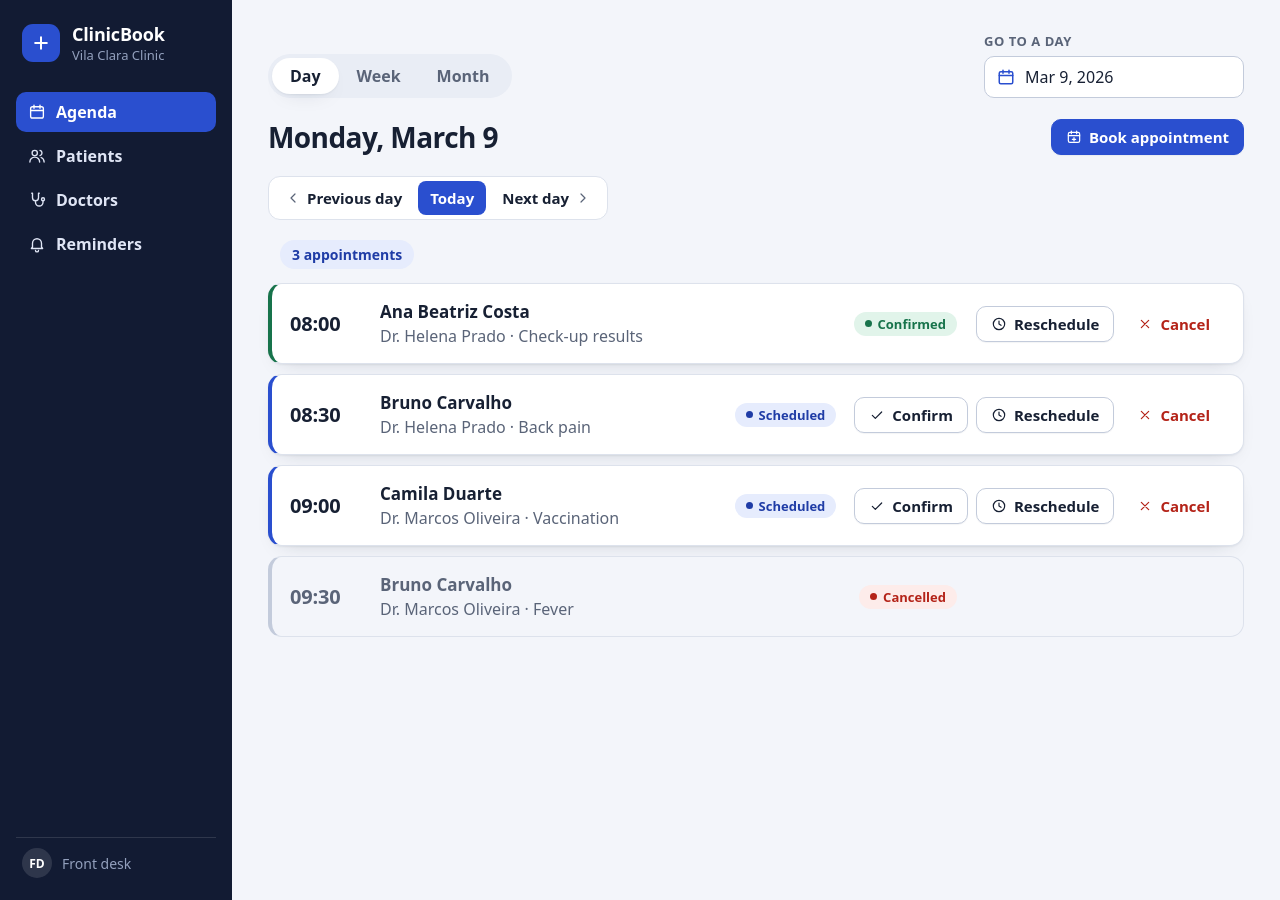
the agenda › confirms a scheduled appointment
Expected: the navigation bar named "Main" is shown, x1=16 y1=92 x2=216 y2=264
Click the button with aria-label "Confirm Bruno Carvalho at 08:30".
click(911, 414)  # box x1=854 y1=396 x2=968 y2=432
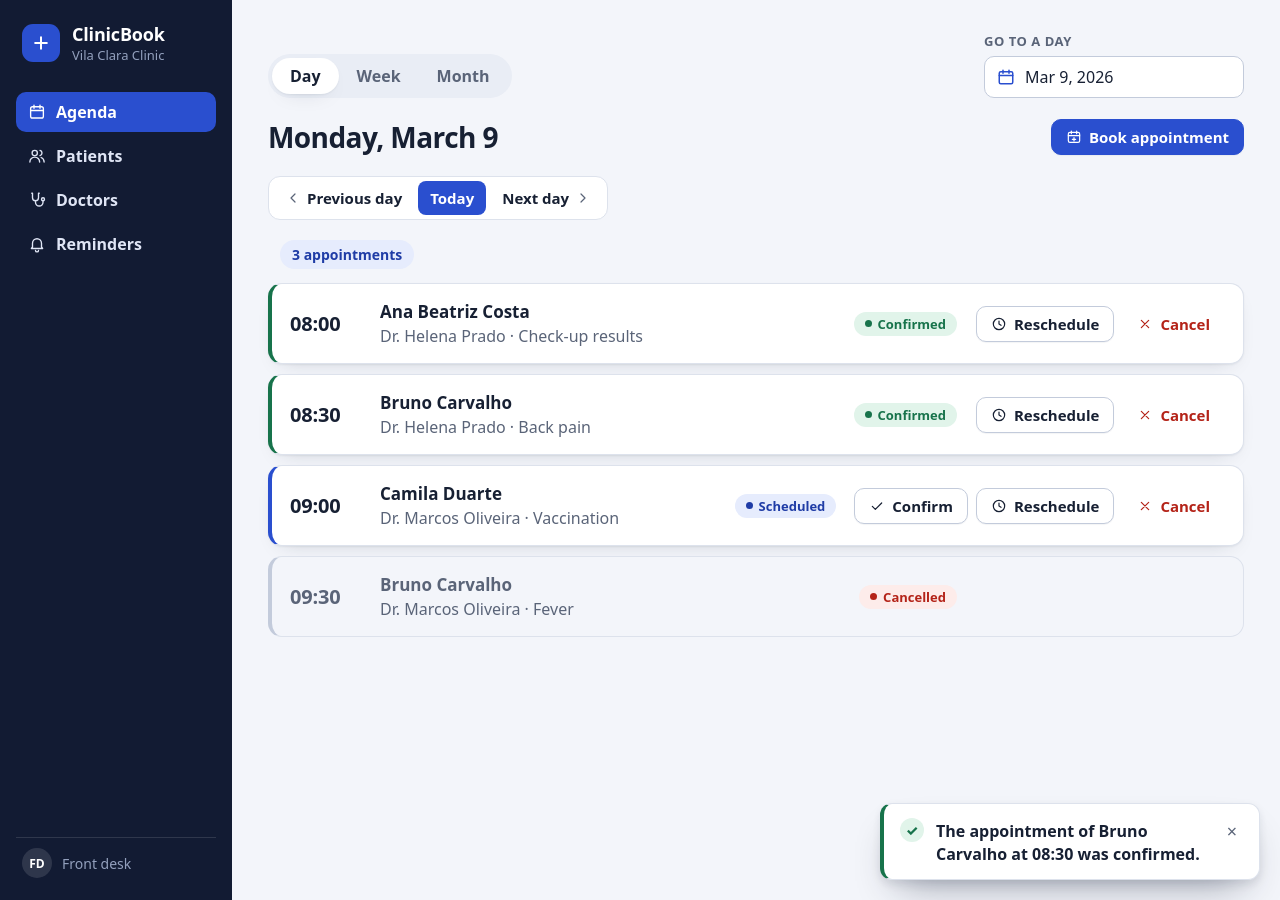
Expected: the text "Confirmed" in the row of "· Back pain" is shown, x1=878 y1=406 x2=946 y2=424
